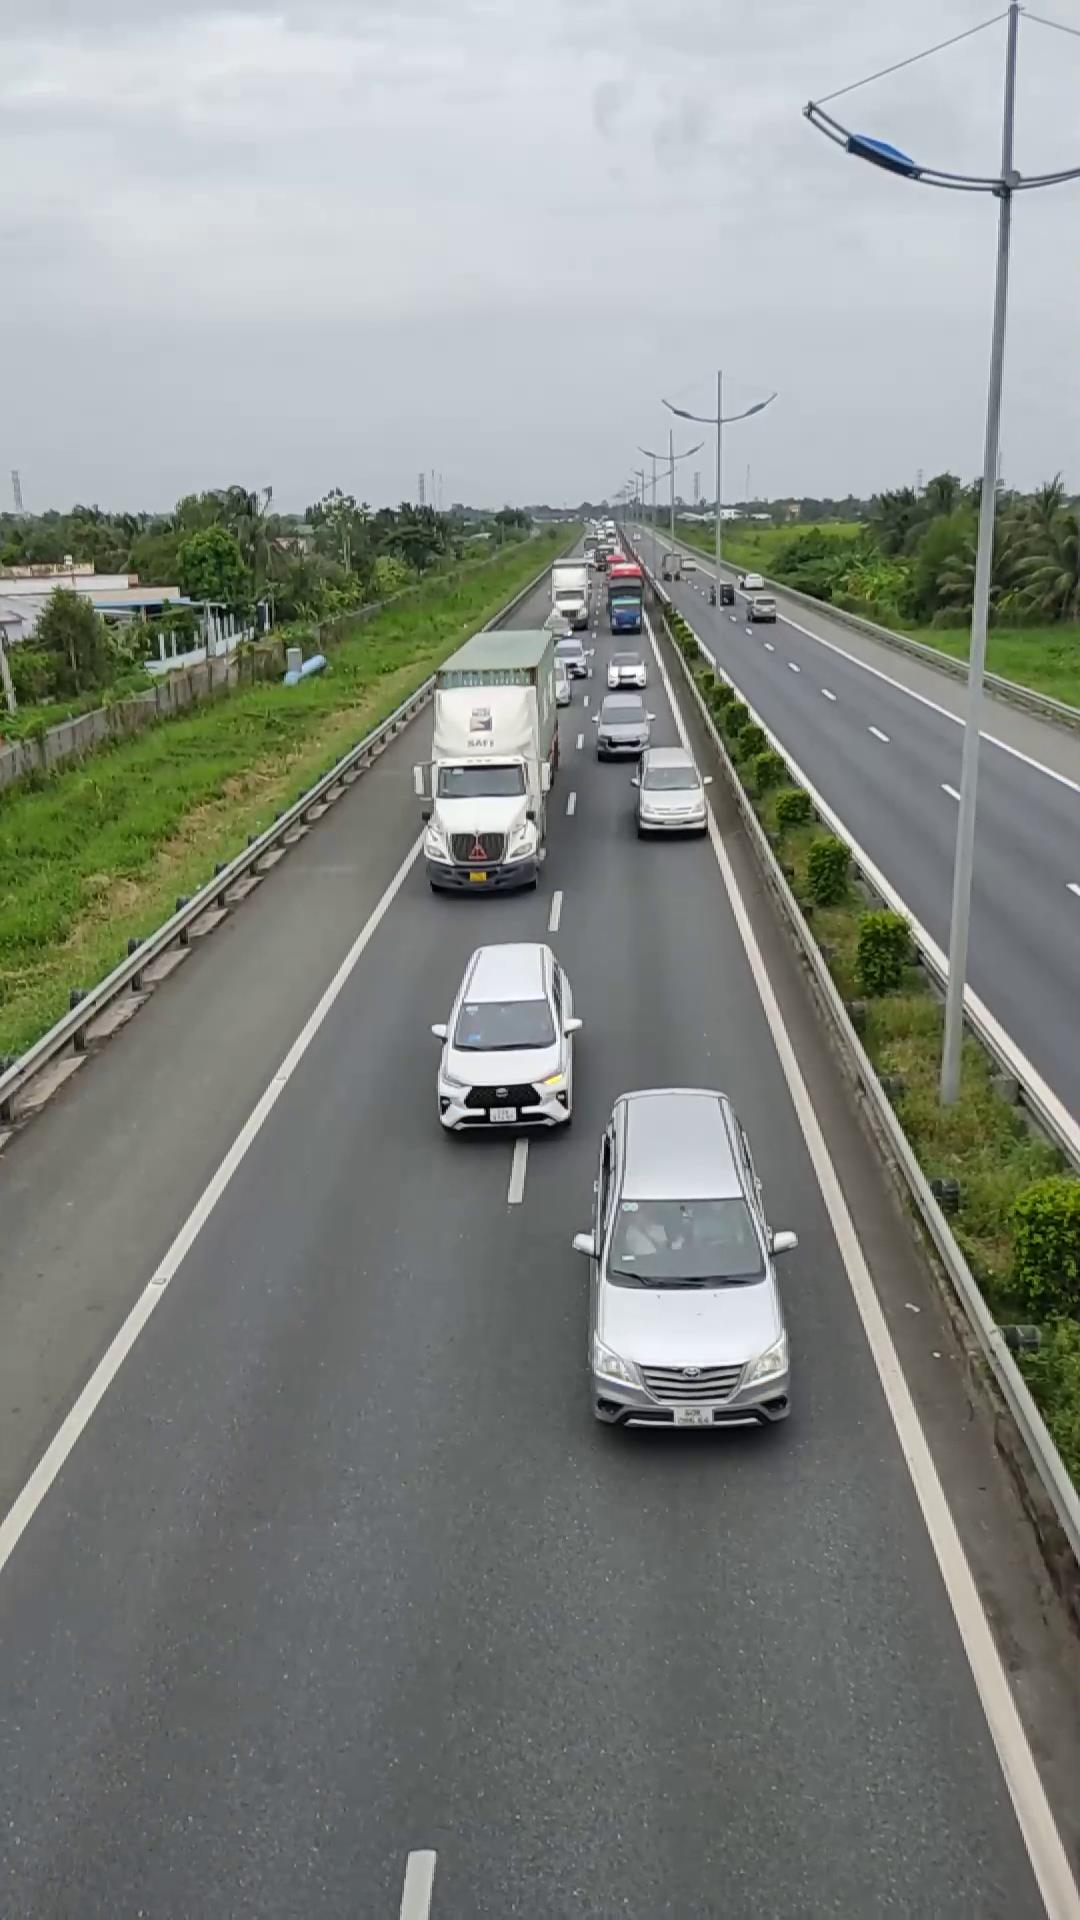car: (578, 1087, 794, 1432), (431, 942, 582, 1135), (632, 746, 709, 837)
container: (421, 626, 560, 893)
